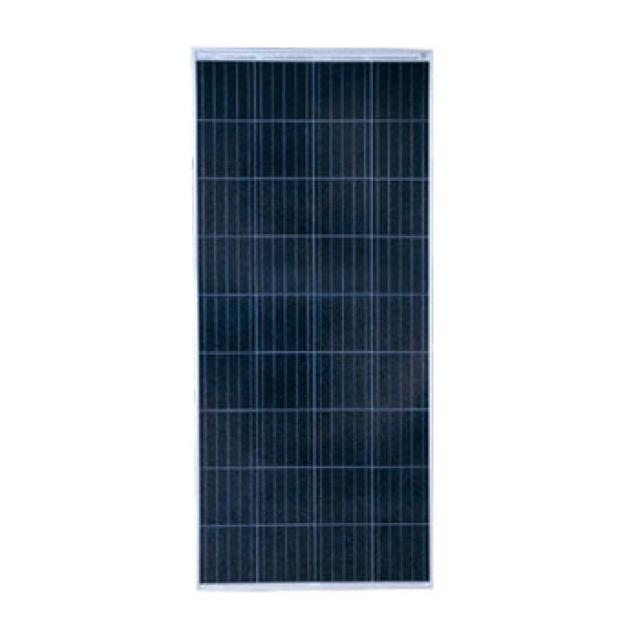clean-solar-panel: (197, 54, 427, 583)
